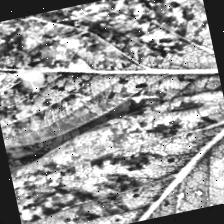Angular Leafspot: (0, 0, 224, 162), (2, 88, 224, 224)
